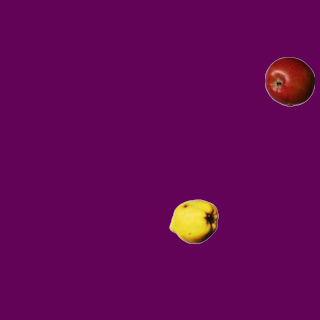Apple Braeburn: (264, 56, 314, 106)
Quince: (168, 196, 218, 246)
